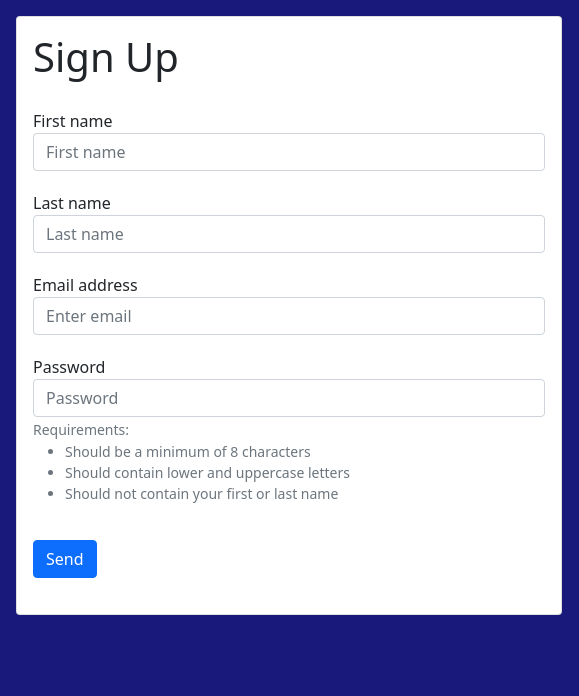
it: App › validates the form
What coordinates should you click on to do the following:
click the button "Send"
I would click on:
 (65, 559)
Its box is [33,540,96,578].
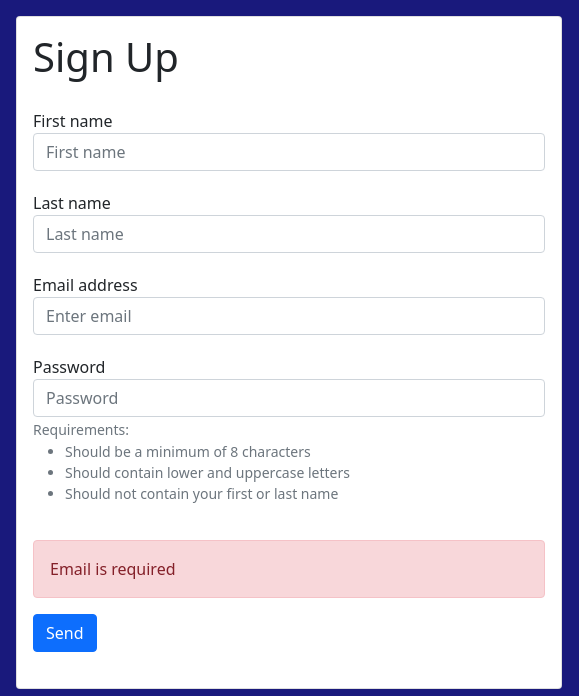
Expected: the message "Email is required" is shown, [33,540,545,598]
